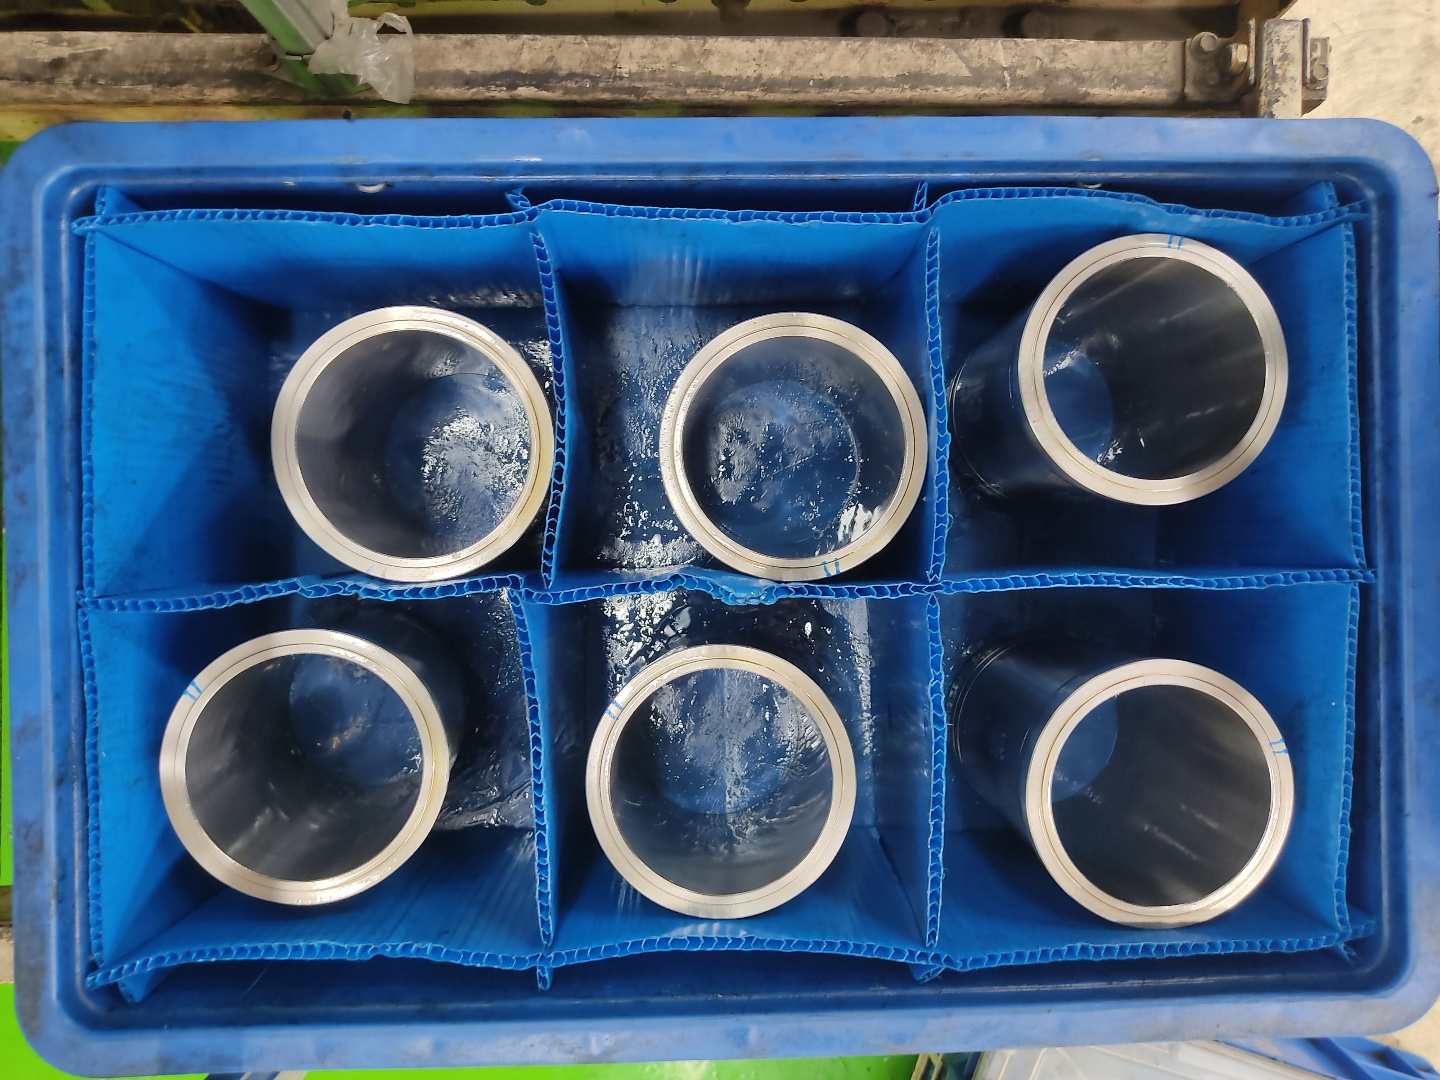cylinder: (266, 299, 557, 587), (156, 628, 452, 909), (581, 641, 859, 923), (1016, 231, 1291, 511), (655, 307, 932, 584), (1022, 658, 1296, 931)
